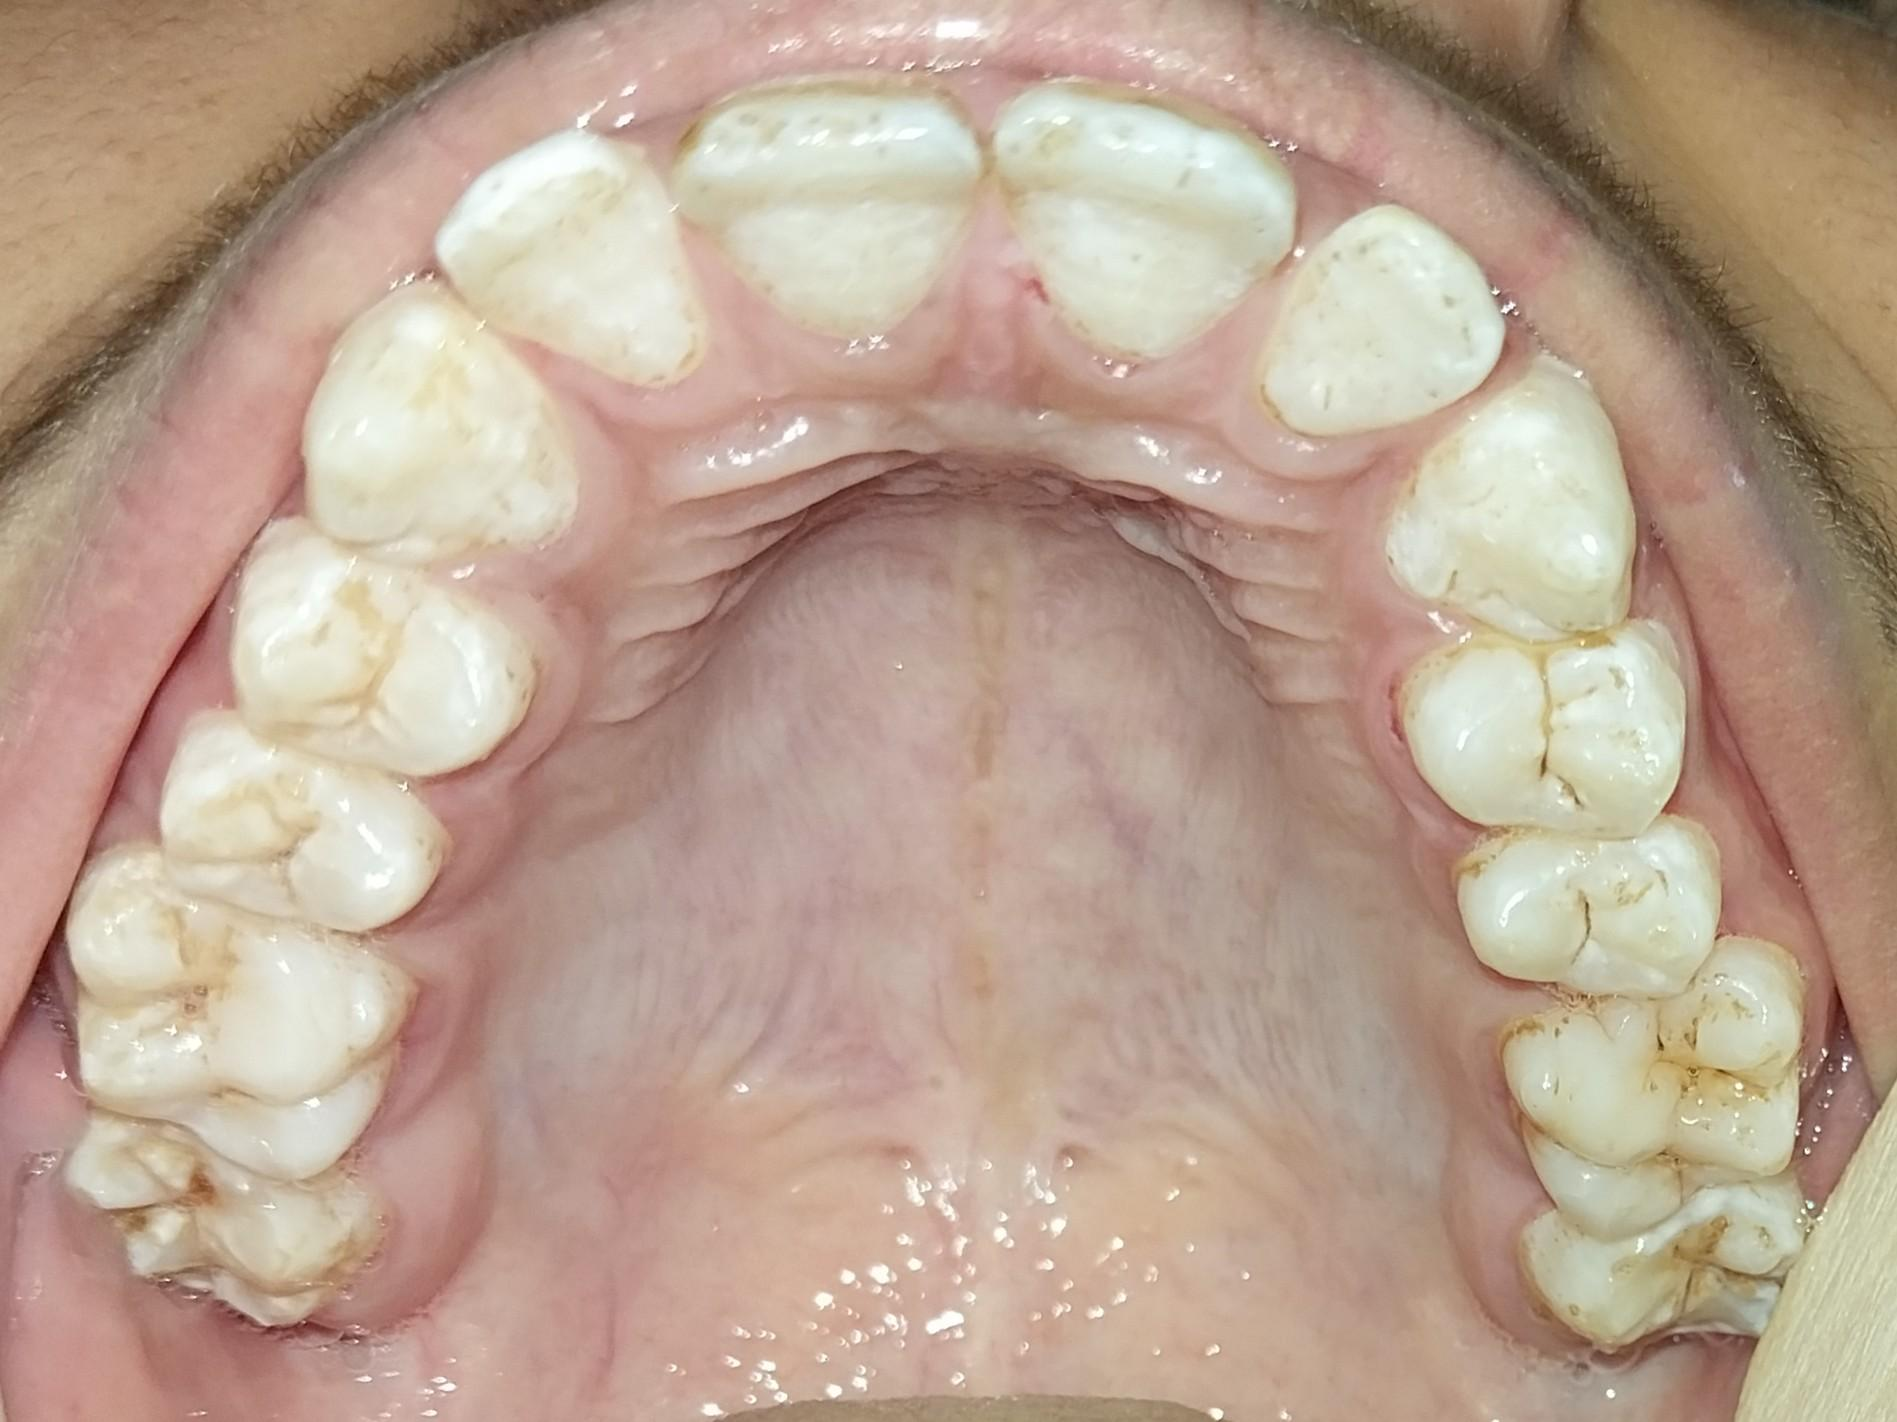D: (1401, 636, 1695, 846), (1459, 828, 1724, 996)
